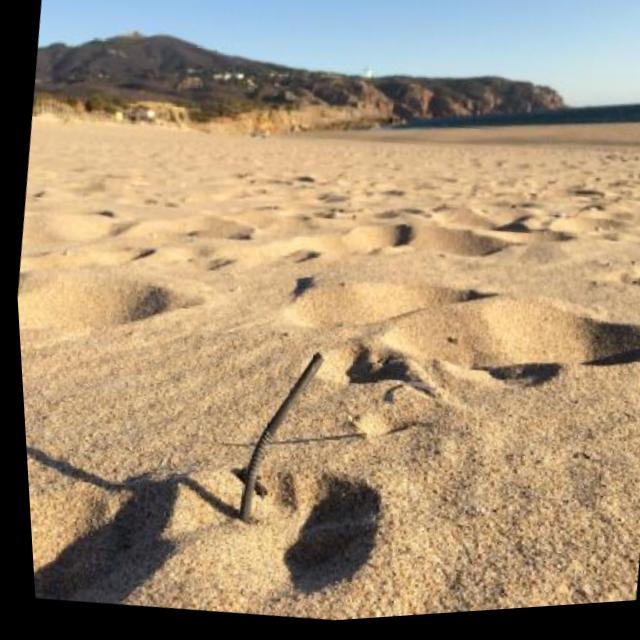plastic: (225, 341, 336, 534)
